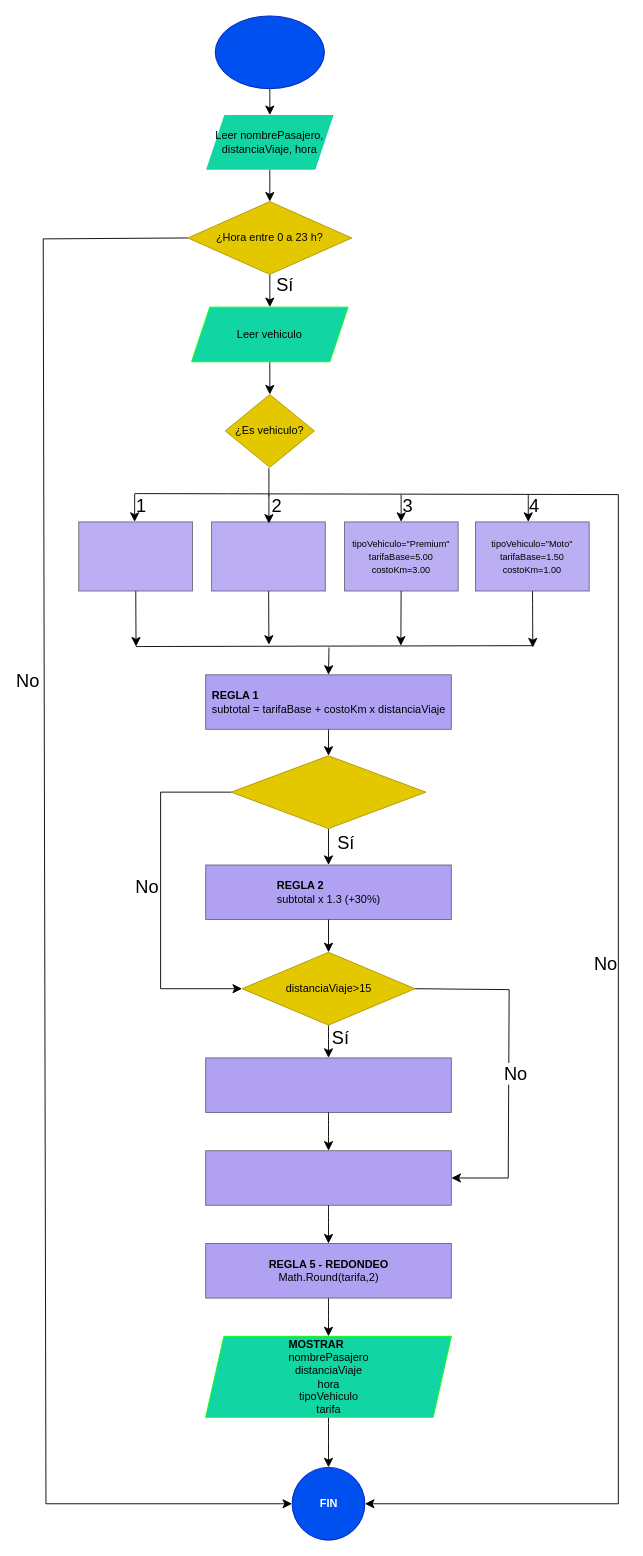
Some shapes in this 643 by 1556 pixel diagram are drawn without their labels. Each missing label, with the centre of its shape:
INICIO: [269,52]
REGLA 3 subtotal x 0.95 (-5%): [328,1084]
REGLA 4 - TARIFA MÍNIMA Math.Max(subtotal, 5.00): [328,1177]
tipoVehiculo="Confort" tarifaBase=3.00 costoKm=2.00: [268,556]
tipoVehiculo="Económico" tarifaBase=2.00 costoKm=1.50: [135,556]
¿Hora entre 7 a 9 h u hora entre 17 a 20?: [328,792]
